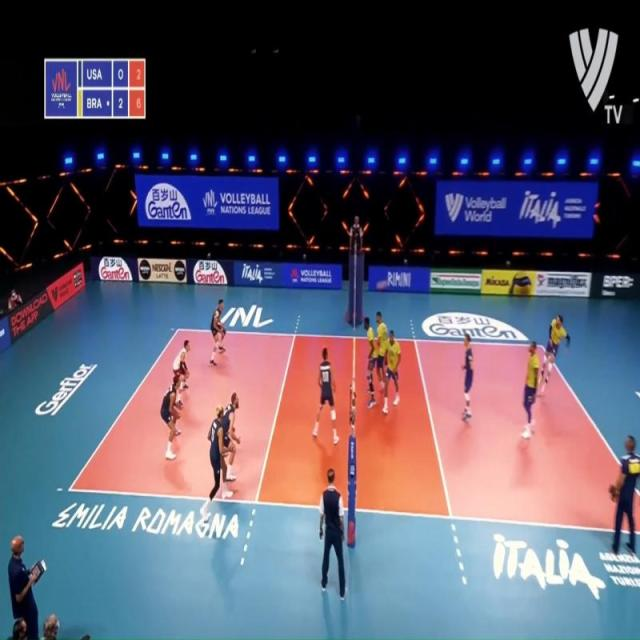volleyball: (375, 280, 390, 289)
